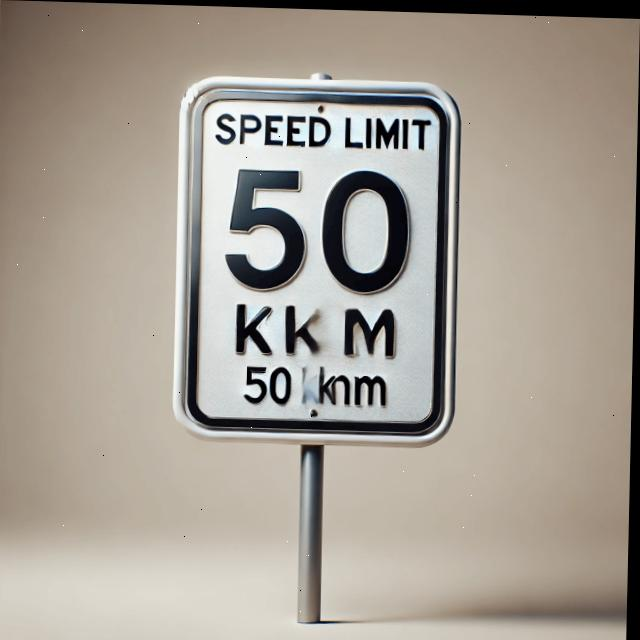Speed limit 50: (173, 71, 467, 448)
